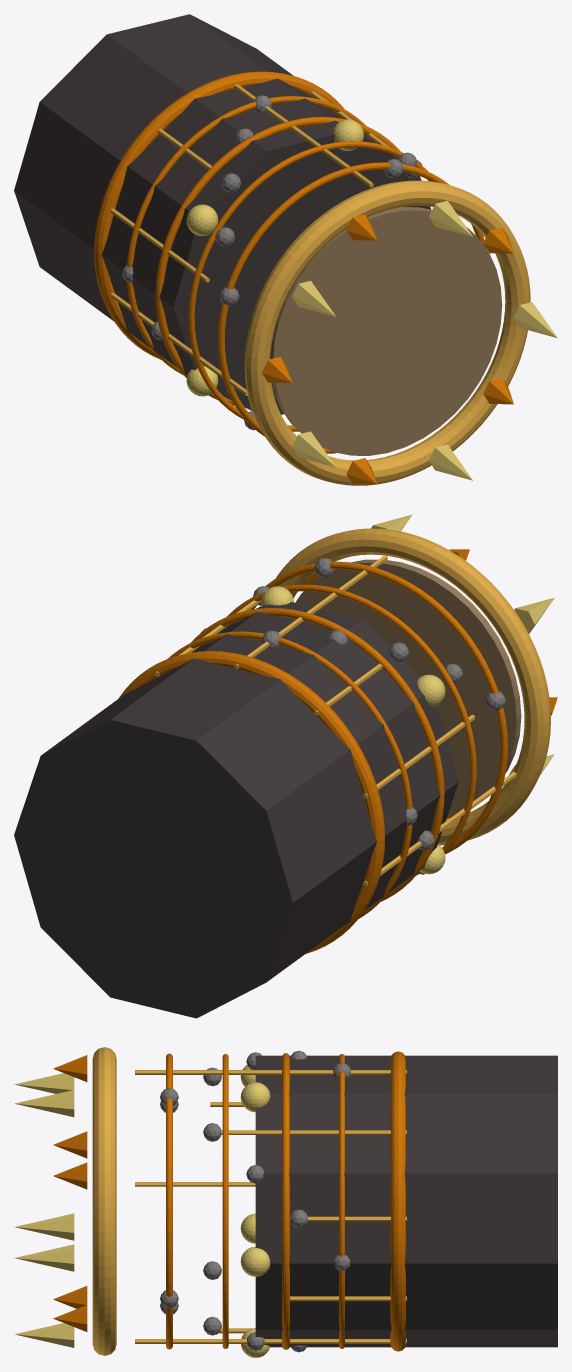
Rendered from pot_legendary_2.glb.
3 renders of one model, top to bottom at view 1: azimuth 30°, elevation 25°; view 2: azimuth 150°, elevation 25°; view 3: azimuth 270°, elevation 25°, orthographic. The views are drawn at different scales.
Visible parts, largest first — view 1: world; view 2: world; view 3: world.
Boxes of the visible parts, bbox=[...] form: world: bbox=[14, 14, 557, 485]; world: bbox=[14, 514, 557, 1018]; world: bbox=[14, 1047, 557, 1357].
Bounding box in the file's own units: 7.23 × 7.16 × 12.6.
